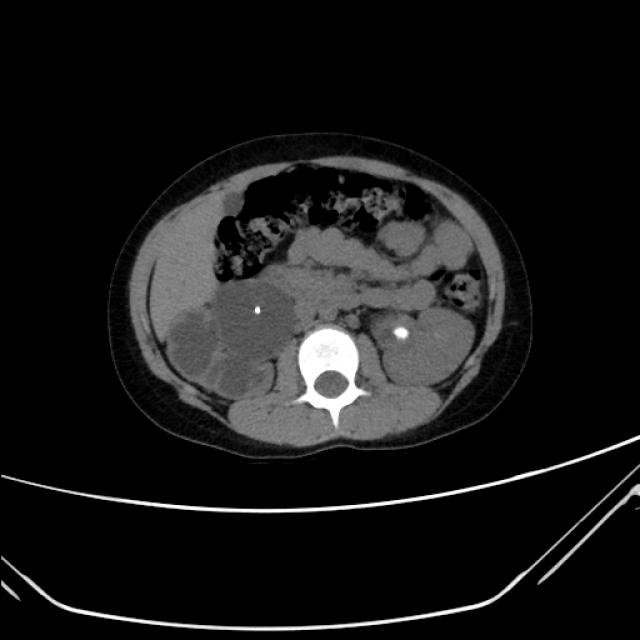kidney: (377, 298, 472, 387), (219, 278, 296, 364), (391, 324, 410, 338)
stone: (388, 322, 412, 341), (252, 302, 265, 318)
